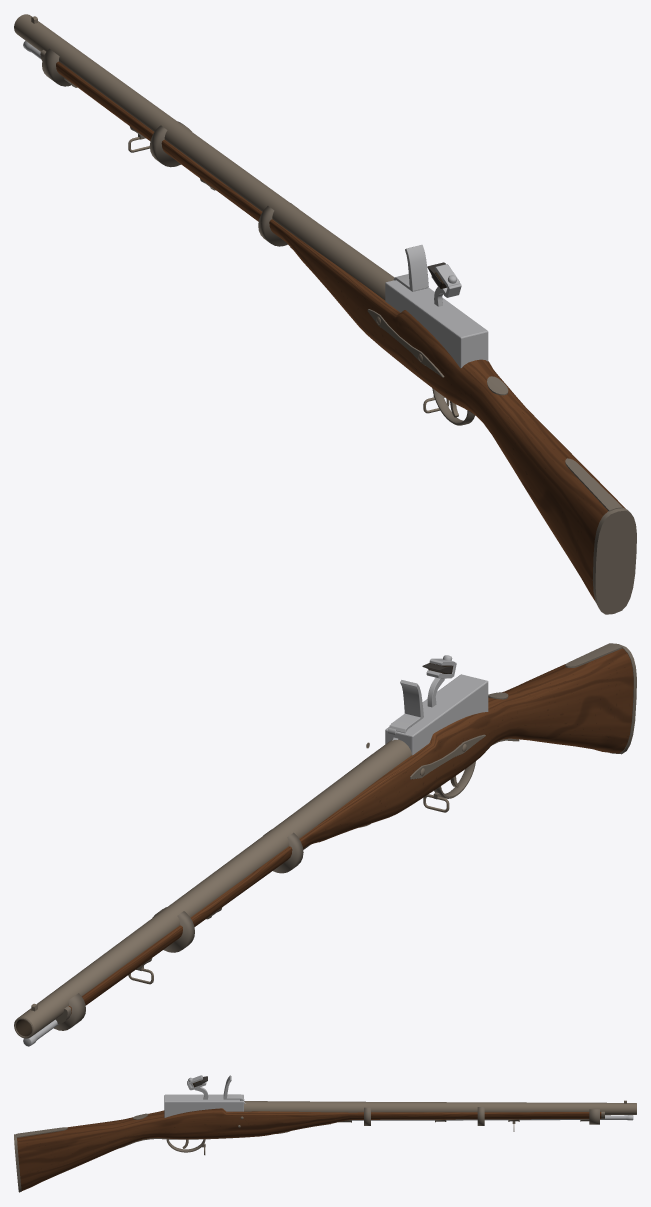
The model's file is hall_rifle.glb.
The picture shows the model from 3 angles, top to bottom: view 1: azimuth 30°, elevation 25°; view 2: azimuth 150°, elevation 25°; view 3: azimuth 270°, elevation 25°; orthographic projection. The views are drawn at different scales.
Visible parts, largest first — view 1: HallRifle, Breech, Frizzen, Cock; view 2: HallRifle, Breech, Frizzen, Cock; view 3: HallRifle, Breech, Ramrod, Cock, Frizzen.
Boxes of the visible parts, box(x1,y1,x2,y2) form: HallRifle: box(14, 14, 636, 614); Breech: box(385, 280, 488, 368); Frizzen: box(393, 245, 428, 291); Cock: box(427, 262, 461, 306); HallRifle: box(14, 643, 636, 1038); Breech: box(385, 674, 488, 755); Frizzen: box(388, 680, 423, 740); Cock: box(422, 655, 456, 707); HallRifle: box(14, 1100, 636, 1192); Breech: box(164, 1094, 243, 1117); Ramrod: box(352, 1115, 633, 1120); Cock: box(187, 1075, 208, 1099); Frizzen: box(223, 1075, 245, 1103).
Bounding box in the file's own units: 0.0687 × 0.2556 × 1.25.
6 materials, 1 textured.
